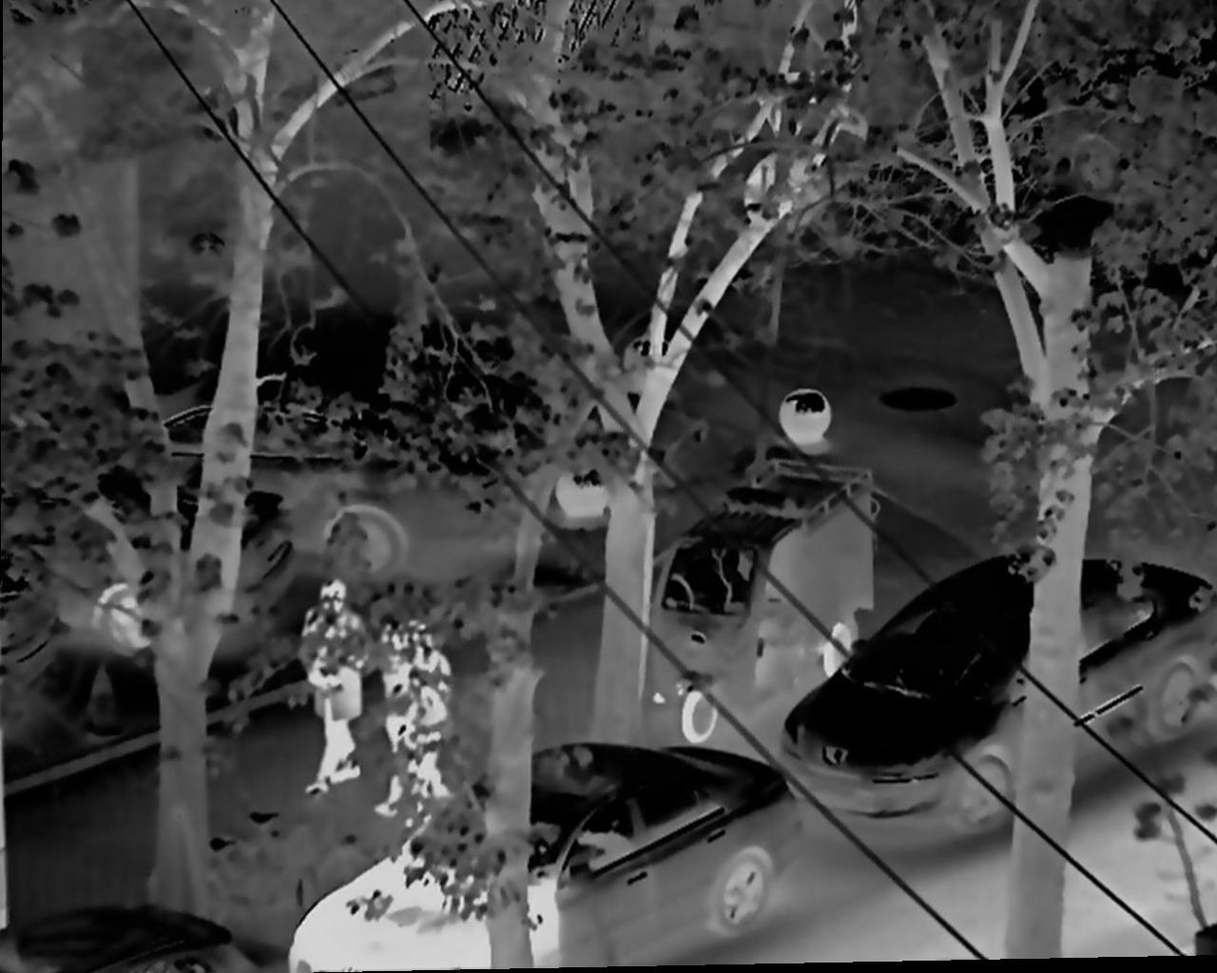person: (291, 575, 373, 799), (374, 620, 456, 821)
